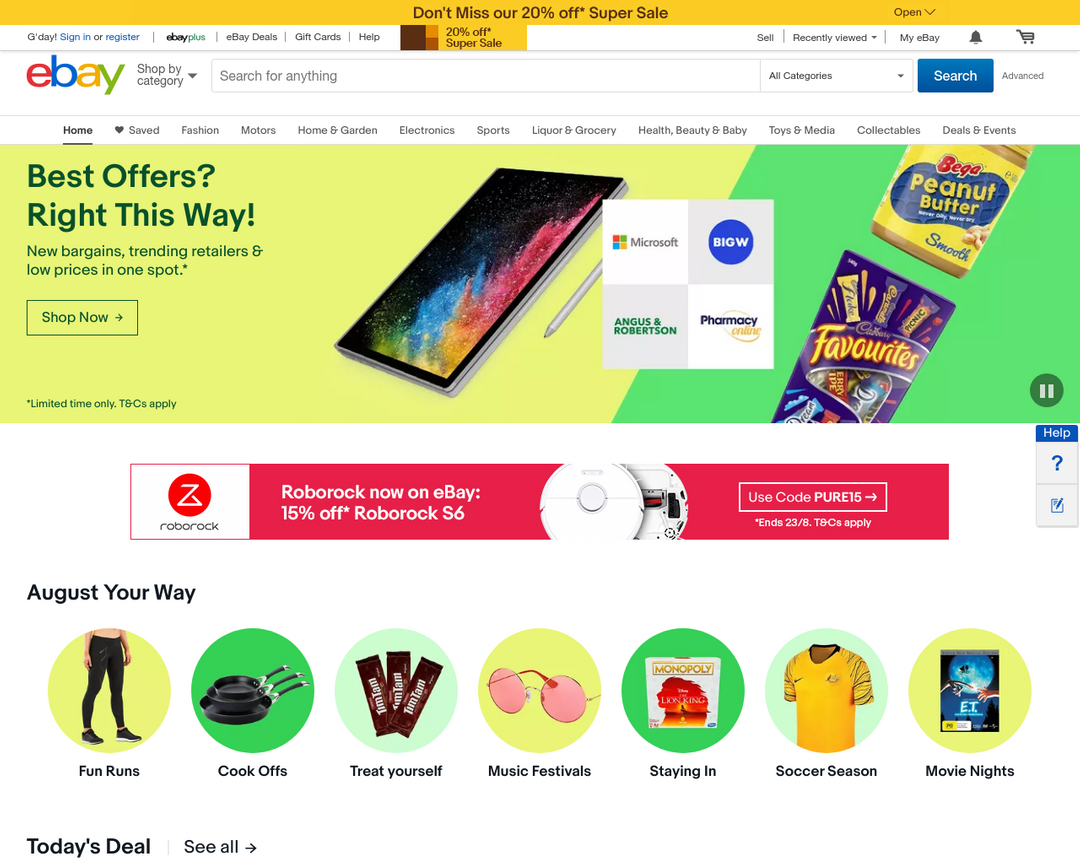Ebay: (24, 54, 126, 100)
